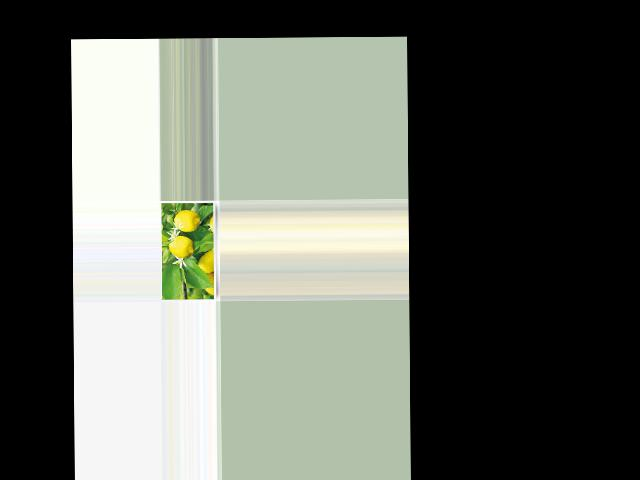lemon: (167, 235, 195, 257)
